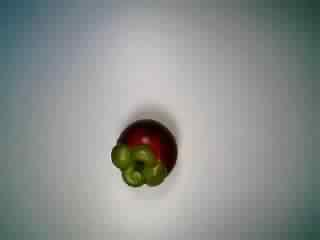mangosteen: (104, 115, 181, 190)
